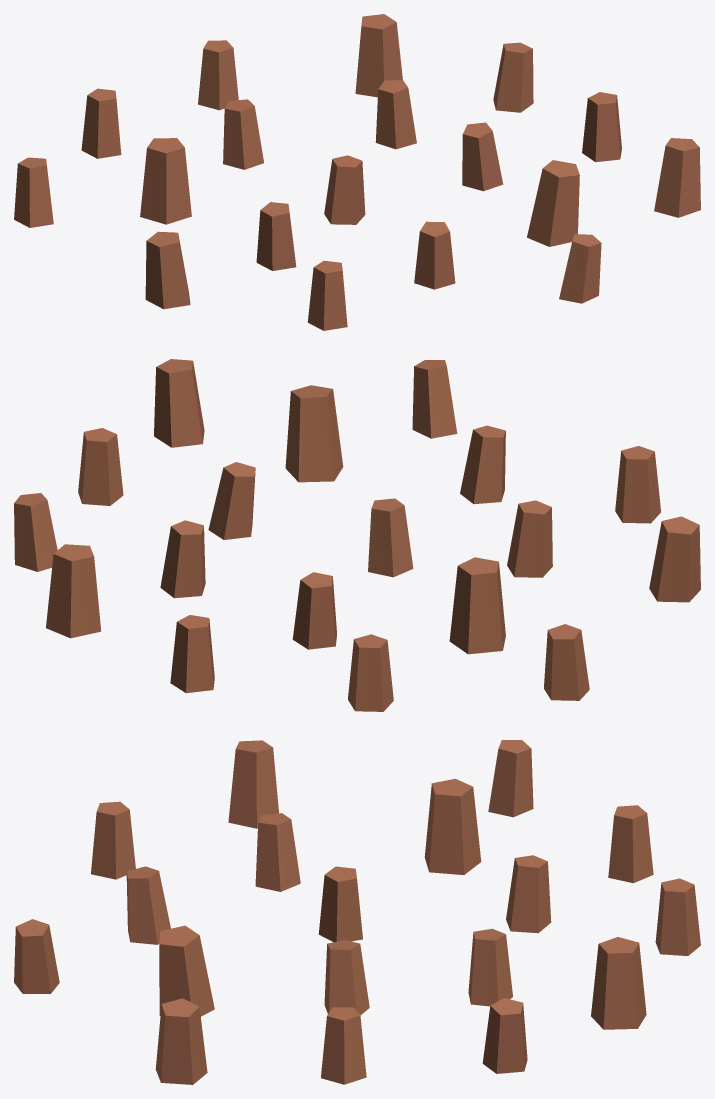
The model's file is kay-clareira-tocos.gltf.
3 renders of one model, top to bottom at view 1: azimuth 30°, elevation 25°; view 2: azimuth 150°, elevation 25°; view 3: azimuth 270°, elevation 25°, orthographic. The views are drawn at different scales.
Visible parts, largest first — view 1: trees_A_cut; view 2: trees_A_cut; view 3: trees_A_cut.
Boxes of the visible parts, x1,y1,x2,y2 form: trees_A_cut: [14, 14, 700, 330]; trees_A_cut: [14, 359, 700, 711]; trees_A_cut: [14, 740, 700, 1084].
Size of the model in its own units: 8.32 by 1.05 by 8.42.
1 material, 1 textured.
